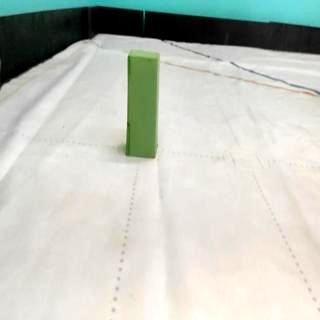greenbox: (124, 45, 162, 163)
